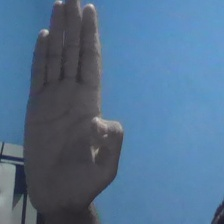B: (20, 1, 128, 218)
